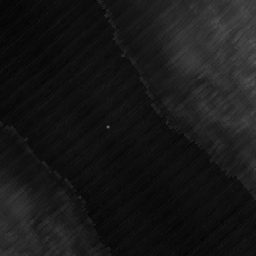Target: (105, 124, 111, 129)
